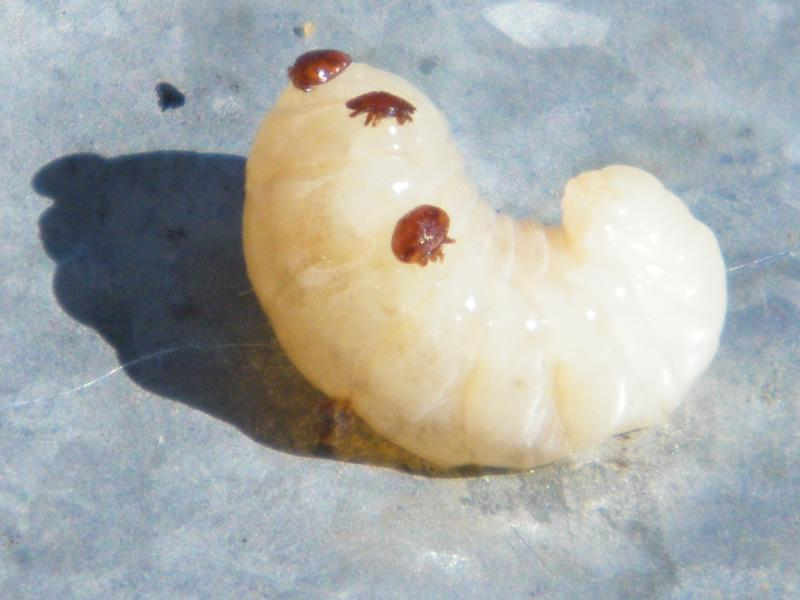Varrao: (390, 204, 457, 270), (287, 49, 353, 92), (343, 91, 418, 128)
